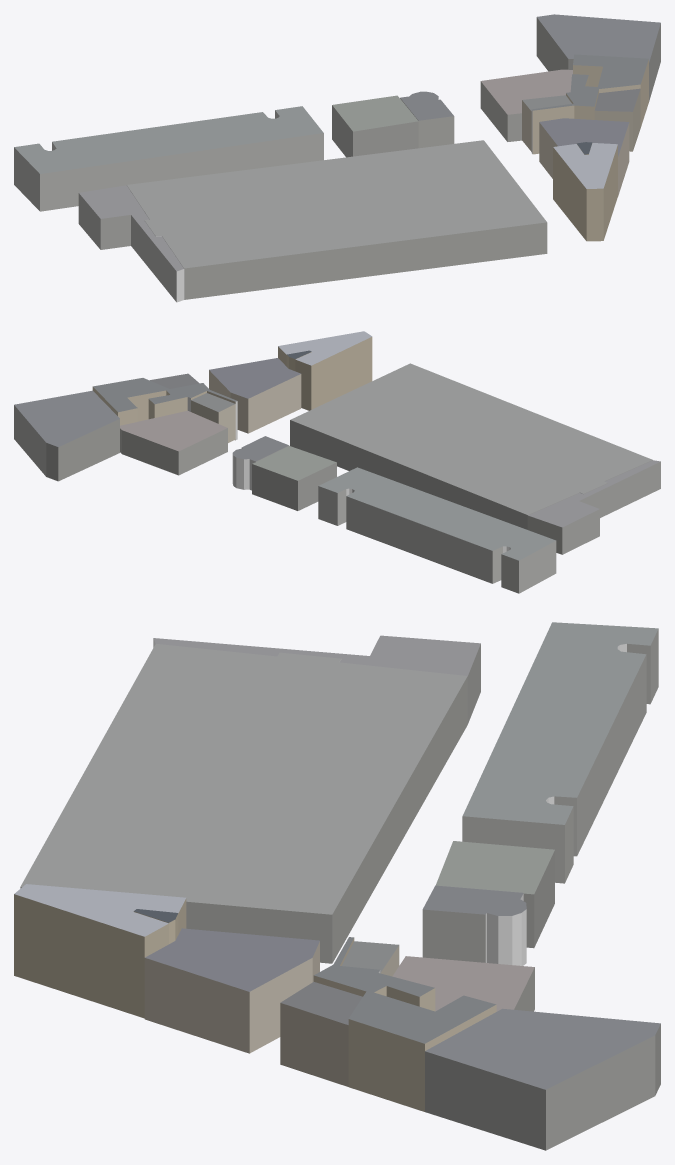
3 renders of one model, top to bottom at view 1: azimuth 30°, elevation 25°; view 2: azimuth 150°, elevation 25°; view 3: azimuth 270°, elevation 25°, orthographic. The views are drawn at different scales.
Visible parts, largest first — view 1: tuile; view 2: tuile; view 3: tuile.
Boxes of the visible parts, x1=… form: tuile: x1=14, y1=14, x2=660, y2=302; tuile: x1=14, y1=331, x2=660, y2=593; tuile: x1=14, y1=622, x2=660, y2=1150.
Bounding box in the file's own units: 192 × 16.17 × 112.
